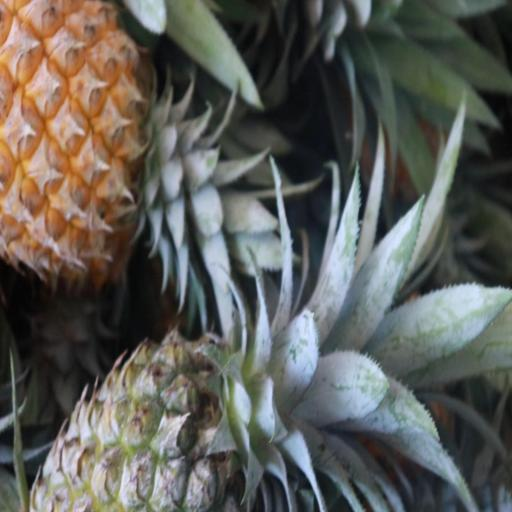------------------------------: (33, 324, 290, 512)
Pineapple - v8 v1: (0, 0, 173, 273)
